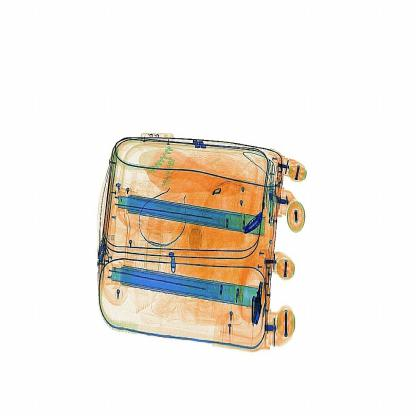knife: (241, 205, 266, 242)
